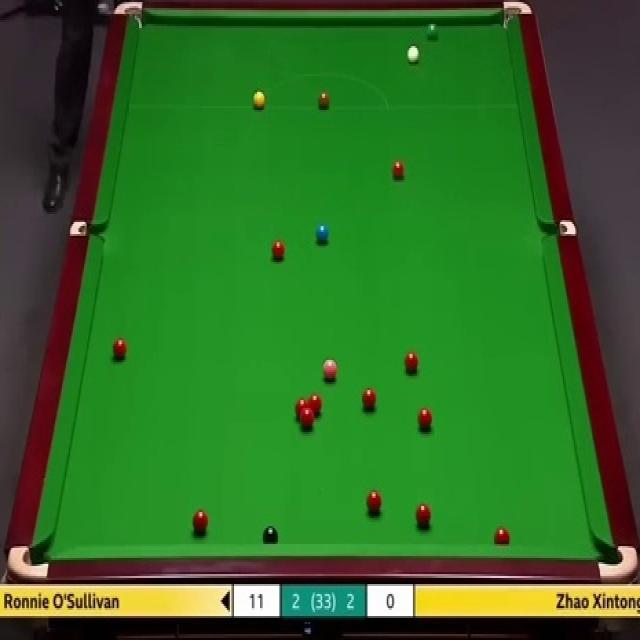black-ball: (262, 525, 280, 546)
blue-ball: (316, 222, 330, 246)
brown-ball: (318, 88, 330, 108)
green-ball: (426, 22, 439, 40)
pink-ball: (322, 359, 339, 384)
red-ball: (358, 385, 376, 411), (191, 508, 208, 535), (415, 504, 432, 530), (404, 349, 420, 375), (366, 490, 382, 516), (417, 406, 433, 429), (112, 335, 126, 360), (294, 398, 308, 422), (309, 393, 322, 418), (272, 237, 284, 264), (392, 158, 405, 182), (493, 526, 511, 543), (300, 411, 316, 430)
white-ball: (408, 44, 422, 67)
yellow-ball: (252, 91, 266, 109)
